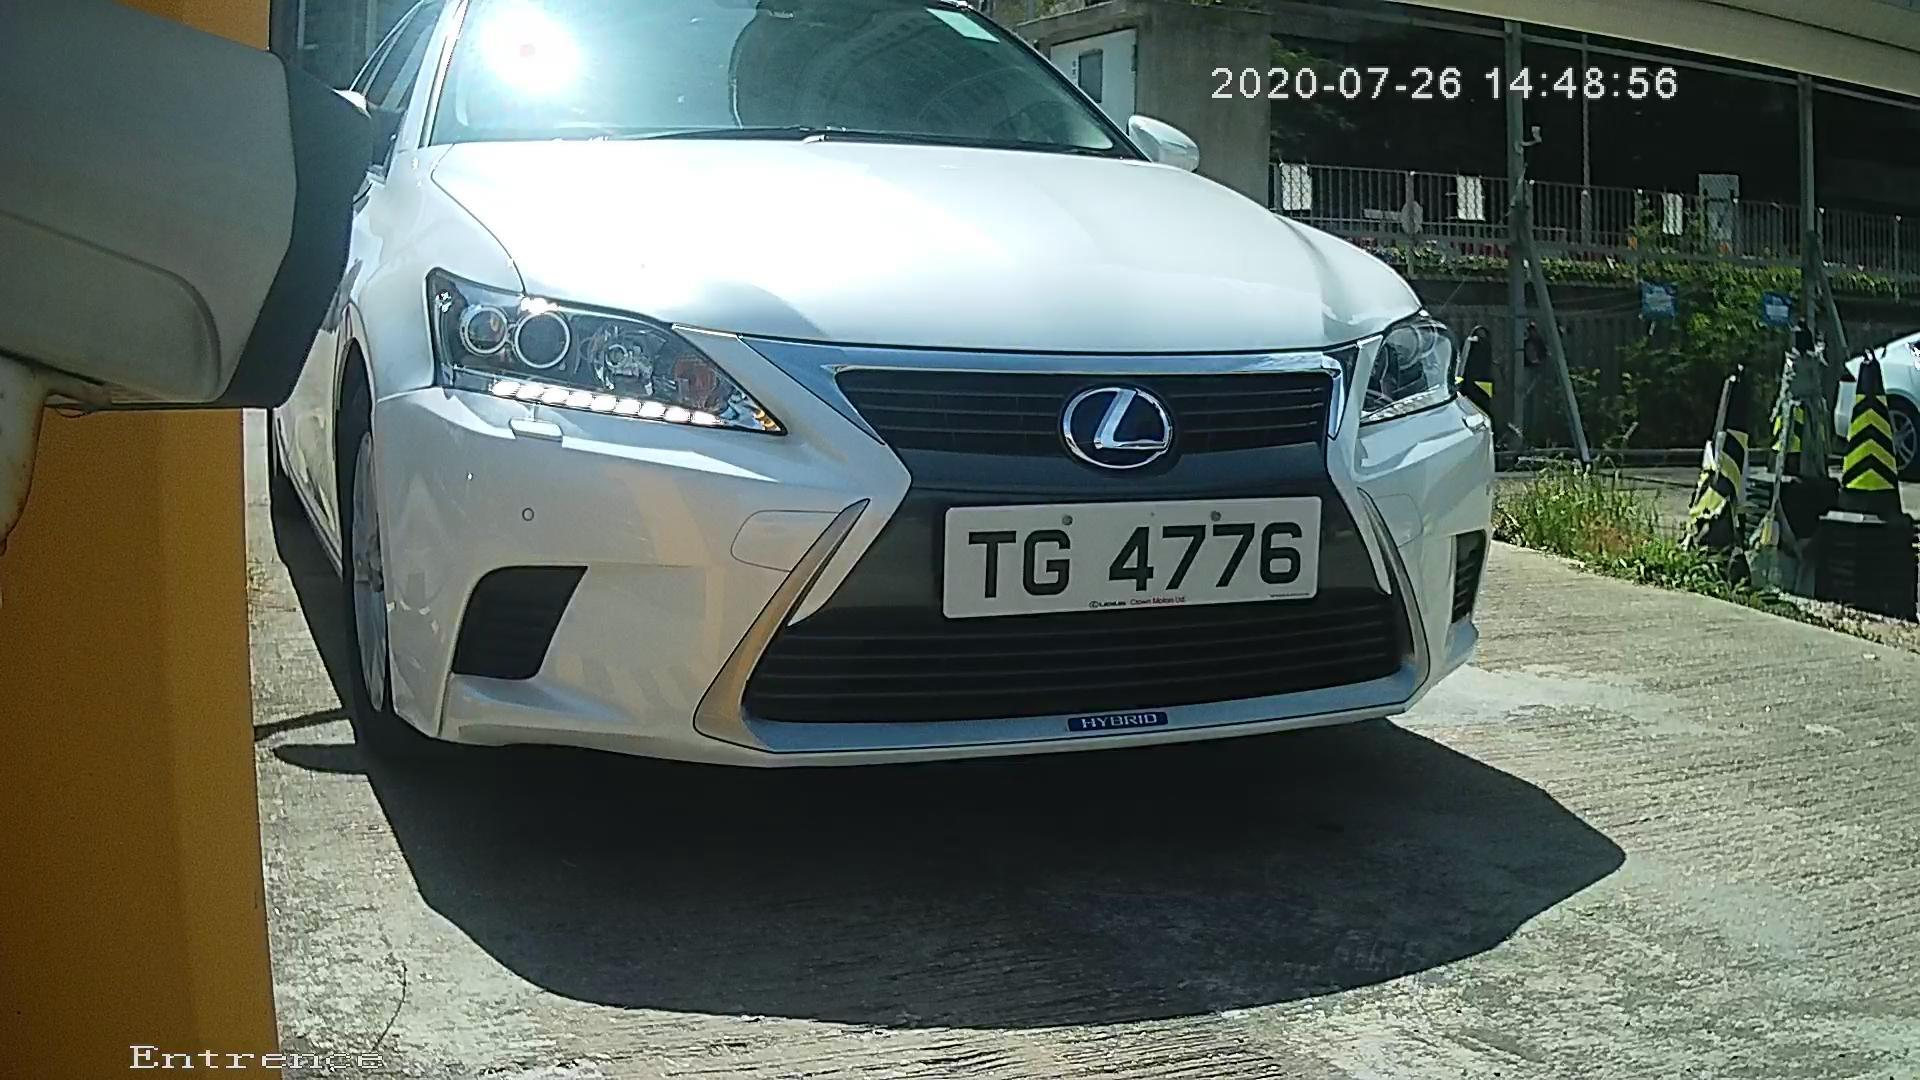privatecar: (249, 40, 1629, 902)
